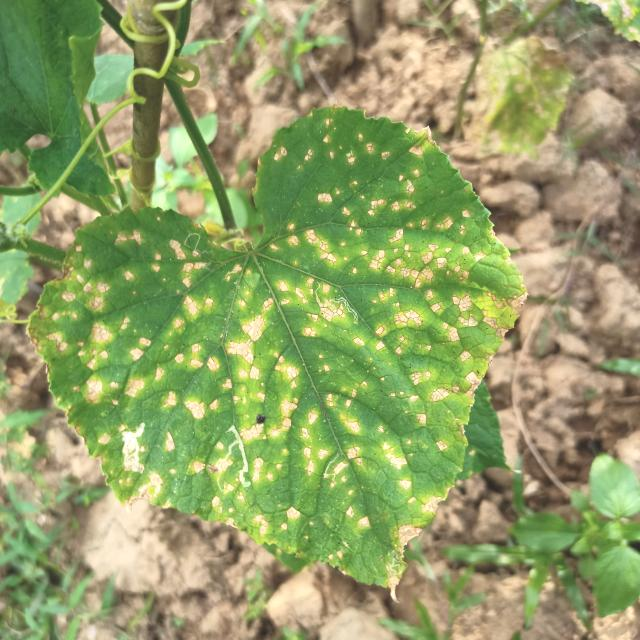disease_cucumber: (56, 126, 512, 573)
